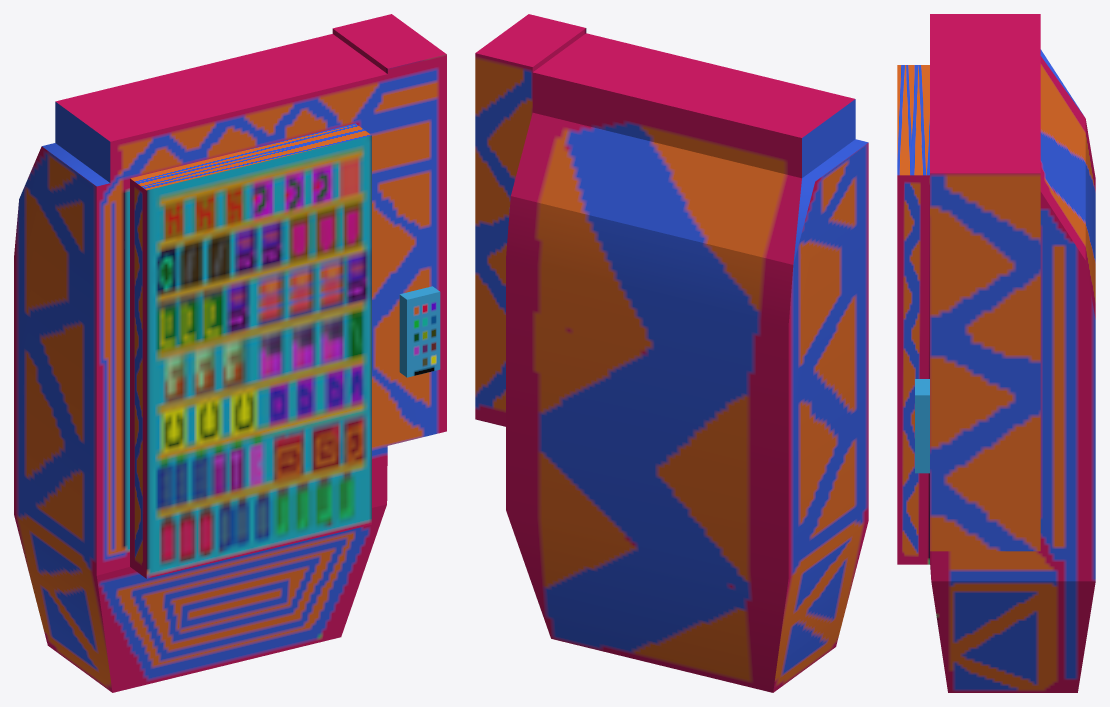
File: vending_machine2.fbx
3 views of the same model, side by side, from view 1: azimuth 30°, elevation 25°; view 2: azimuth 150°, elevation 25°; view 3: azimuth 270°, elevation 25° (orthographic). The views are drawn at different scales.
Visible parts, largest first — view 1: pasted__vending_machine2; view 2: pasted__vending_machine2; view 3: pasted__vending_machine2.
Part boxes in pixels (x1,y1,x2,y2): pasted__vending_machine2: [14, 14, 446, 692]; pasted__vending_machine2: [475, 14, 868, 692]; pasted__vending_machine2: [897, 14, 1095, 692].
Size of the model in its own units: 160 by 247 by 78.41.
